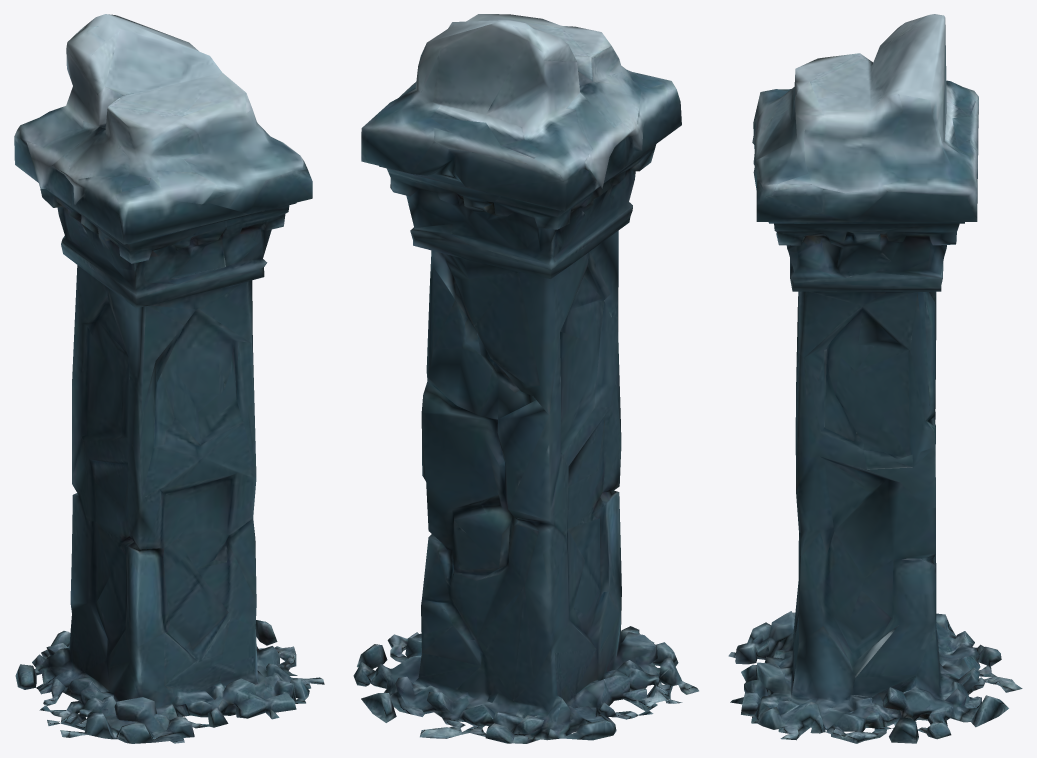
The model's file is pillar.glb.
3 views of the same model, side by side, from view 1: azimuth 30°, elevation 25°; view 2: azimuth 150°, elevation 25°; view 3: azimuth 270°, elevation 25° (orthographic). The views are drawn at different scales.
Bounding box in the file's own units: 0.8043 × 1.9 × 0.7756.
Materials: 1 (1 with a texture image).
